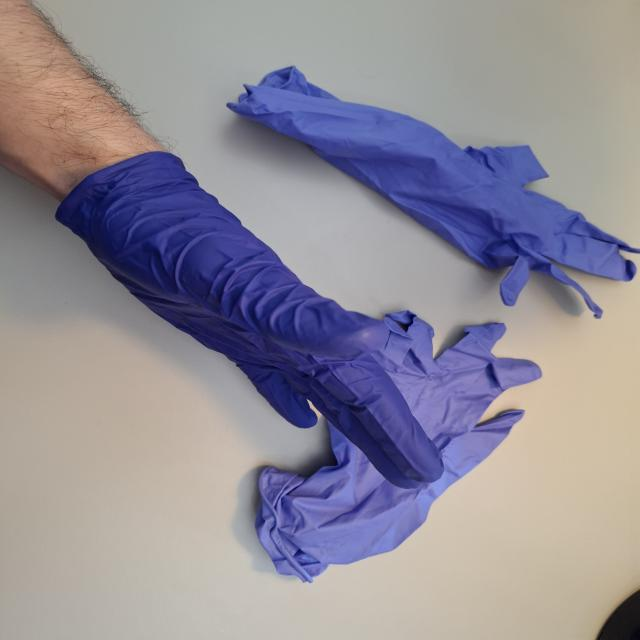glove_on: (53, 144, 448, 491)
